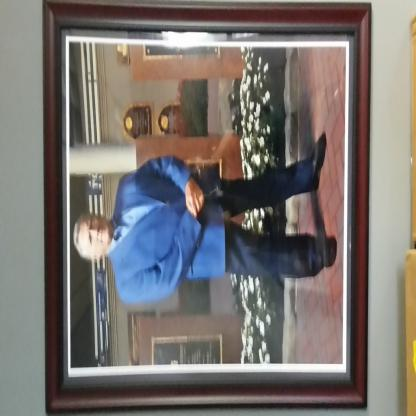Picture-frame: (43, 1, 373, 414)
